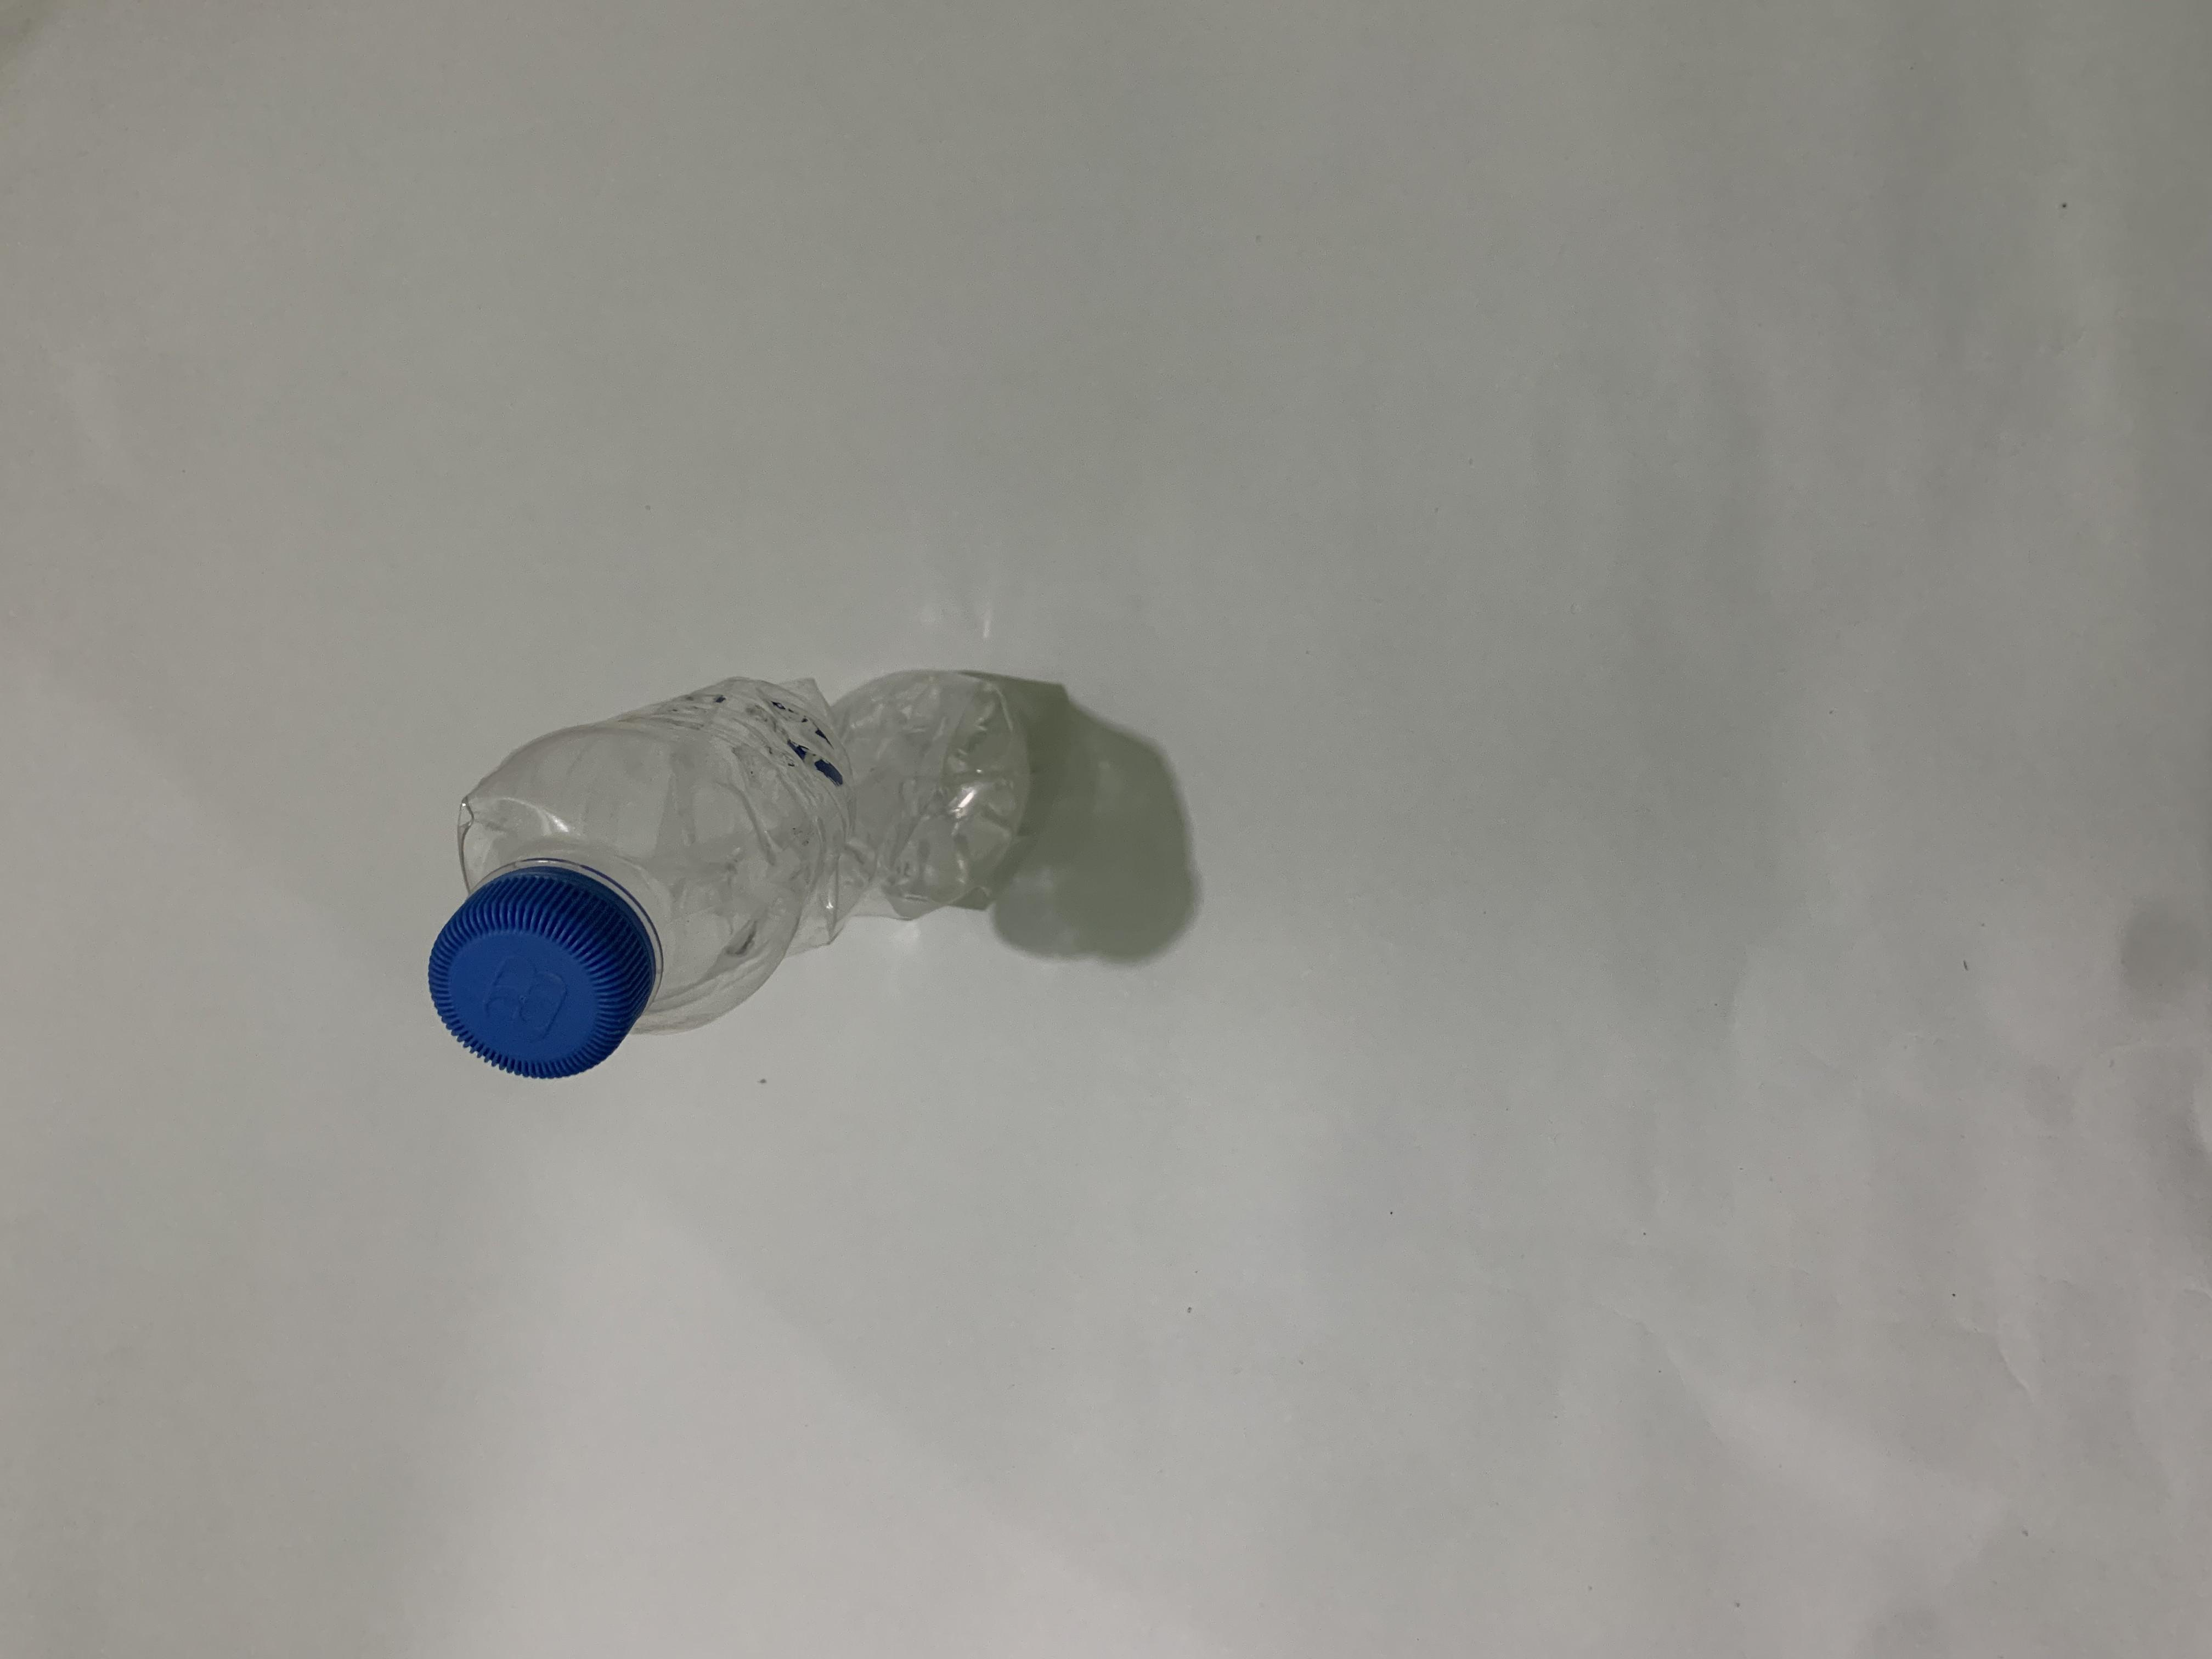bottle: (759, 312, 1338, 826)
